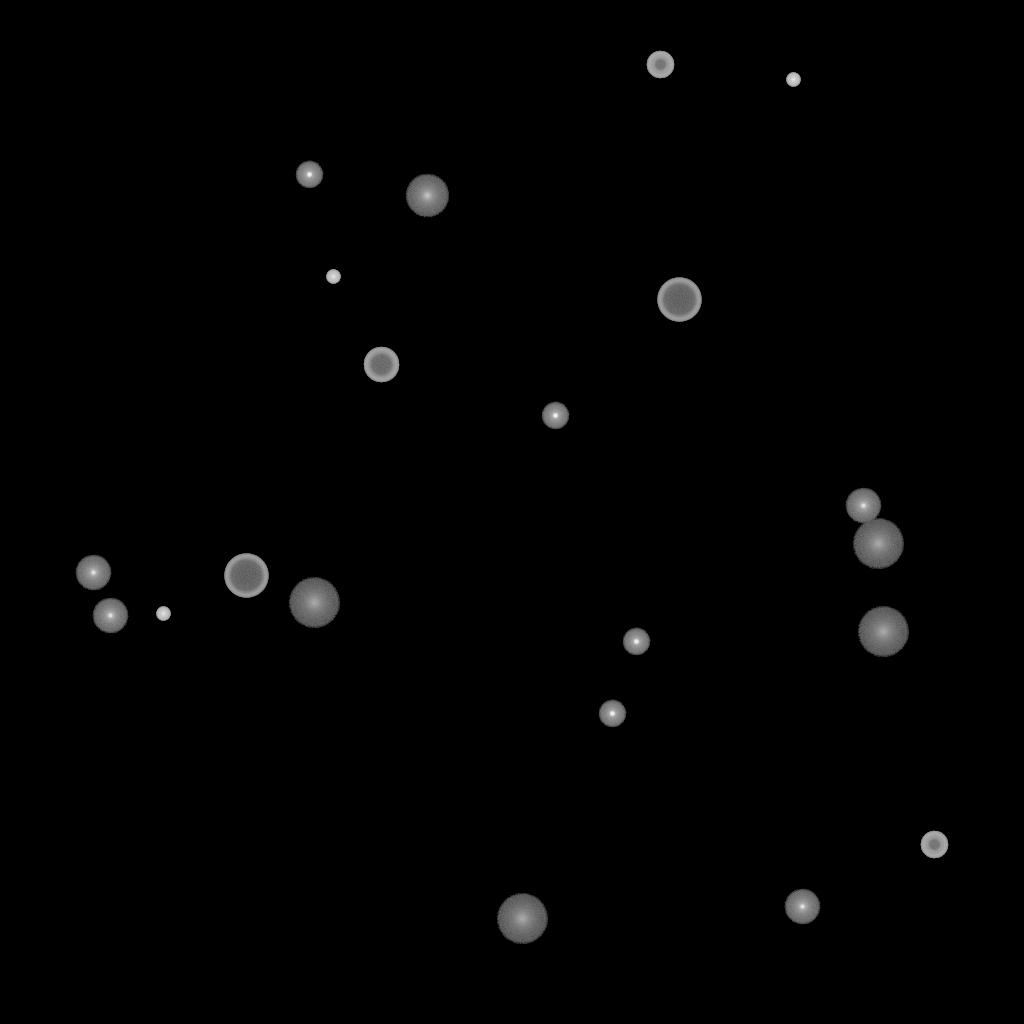depth:-10: (598, 700, 626, 728), (622, 628, 650, 656), (295, 161, 323, 189), (541, 402, 569, 430)
depth:-30: (156, 607, 170, 621), (786, 73, 800, 87), (326, 270, 340, 284)
depth:-50: (920, 831, 948, 859), (646, 51, 674, 79)
depth:-60: (363, 347, 399, 383)
depth:-70: (224, 554, 268, 598), (657, 278, 701, 322)
depth:0: (92, 598, 128, 634), (75, 555, 111, 591), (845, 488, 881, 524), (784, 889, 820, 925)
depth:10: (405, 174, 449, 218)
depth:20: (857, 607, 909, 657), (496, 894, 548, 944), (852, 519, 904, 569), (288, 578, 340, 628)
